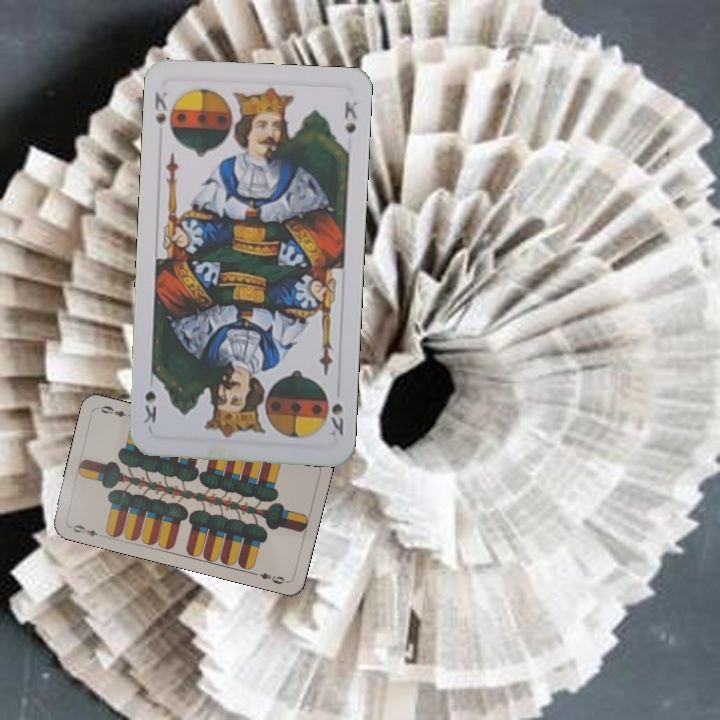E9: (66, 521, 105, 540)
SK: (150, 87, 171, 129), (324, 399, 346, 439)
